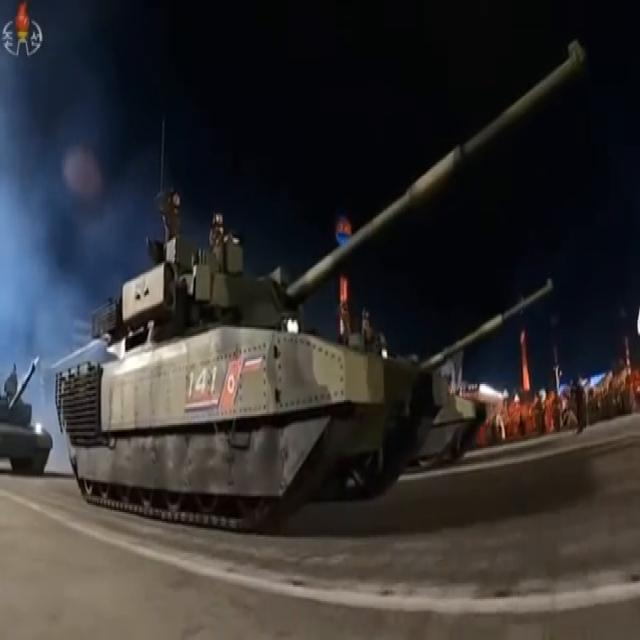north tank: (34, 24, 610, 576), (326, 264, 565, 496)
